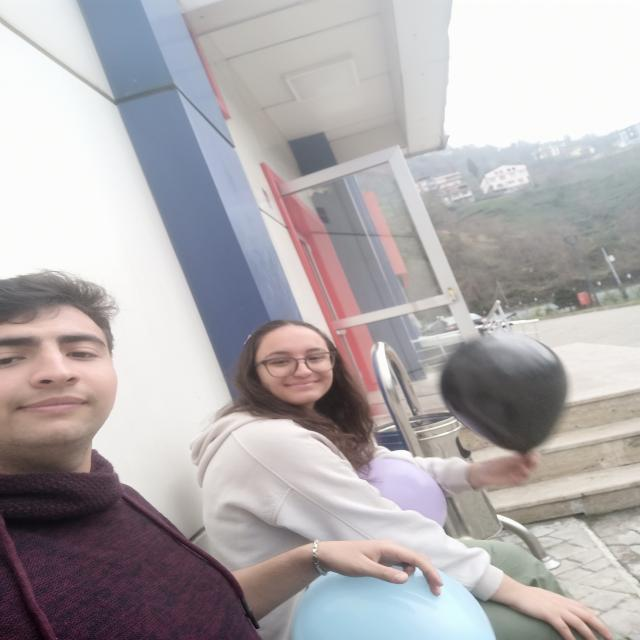balloon: (442, 332, 568, 454)
